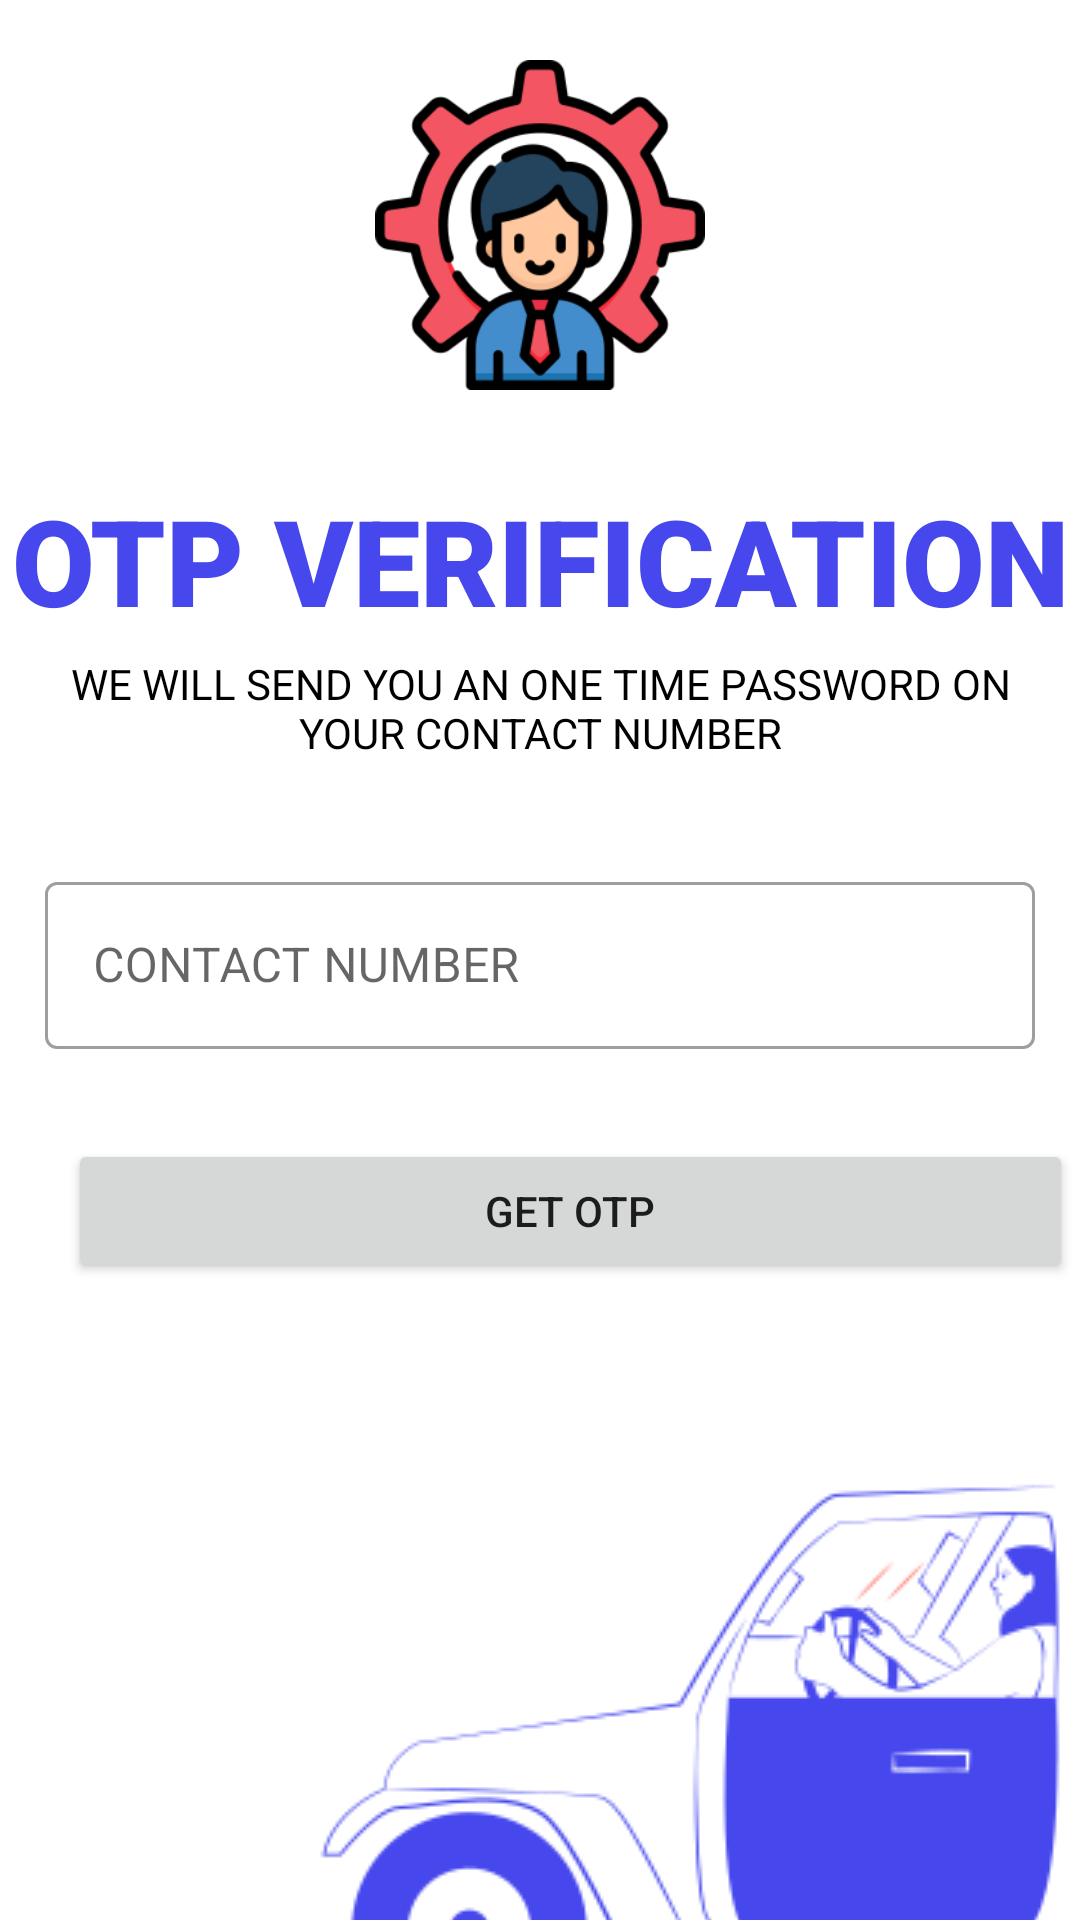

Icon bounding boxes for this 1080w x 1920h phone screenshot, format rect(x1, y1, x2, y2):
manager: rect(375, 60, 705, 390)
